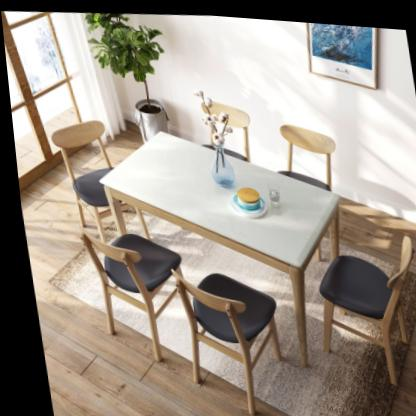Dining Table: (41, 76, 416, 416)
Wooden floor: (15, 160, 284, 416)
